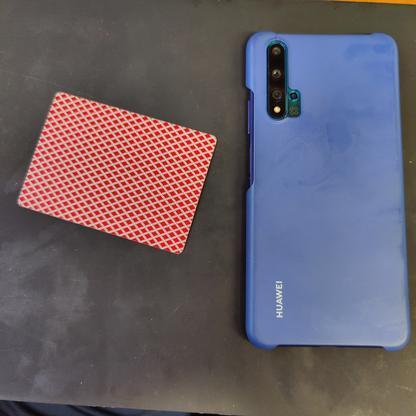card: (12, 77, 225, 275)
